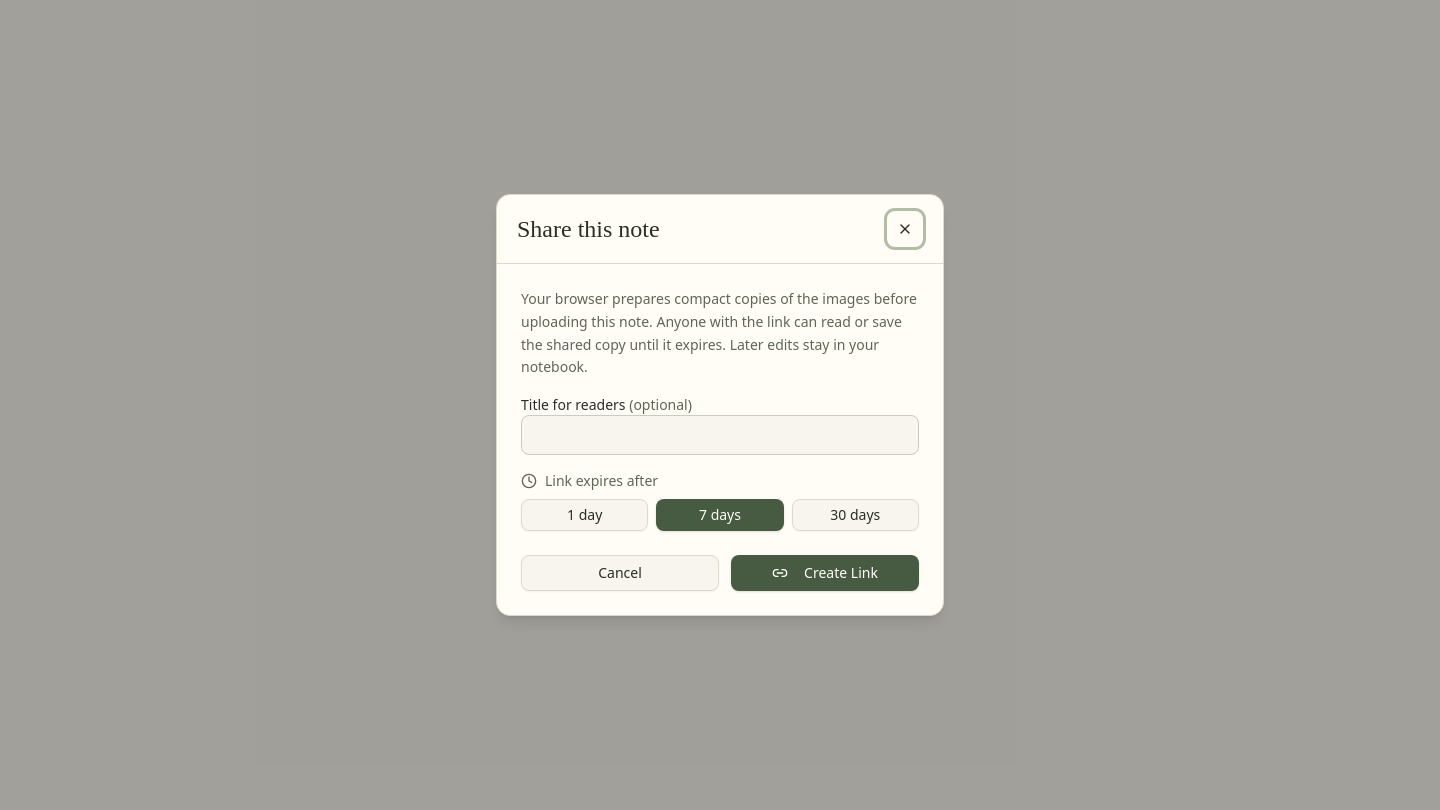
Test: share link dialog › keeps the full-size image off the network if preparing its copy fails
The image size is (1440, 810).
Click the button "Create Link".
click(825, 573)  # box [731, 555, 919, 591]
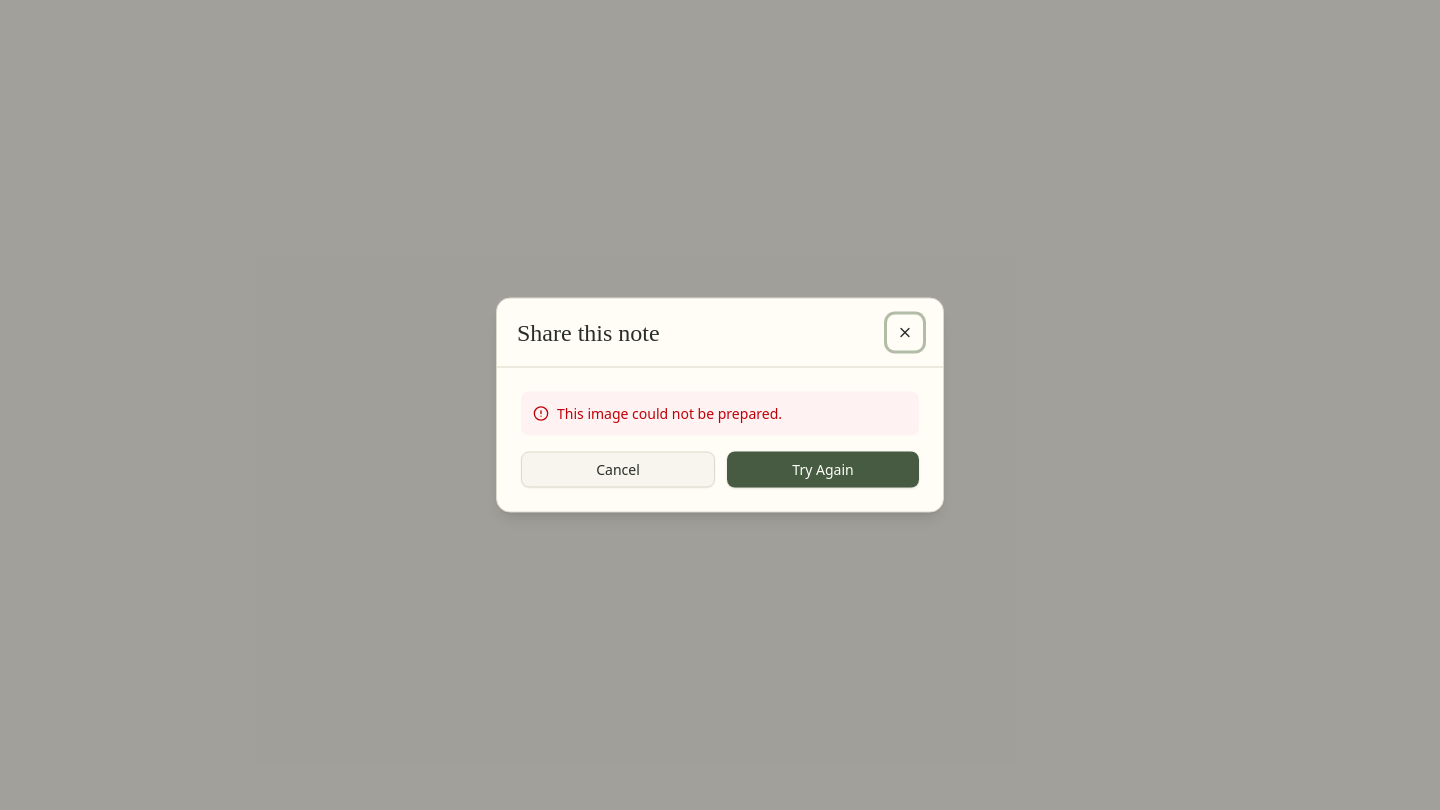
Expected: the text "This image could not be prepared." is shown, [557, 404, 782, 424]
